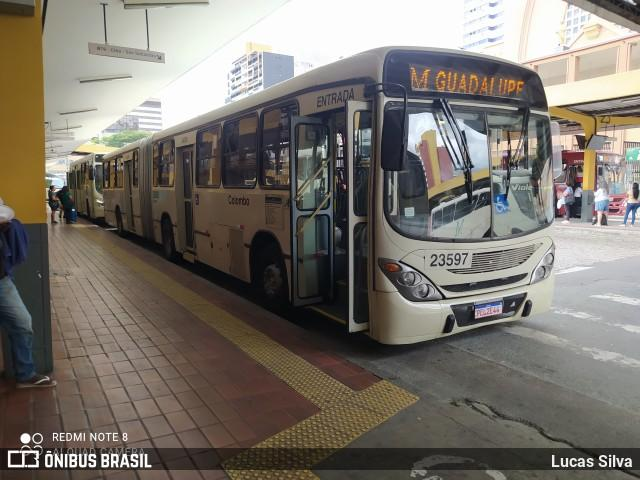GUADALUPE: (430, 65, 527, 103)
